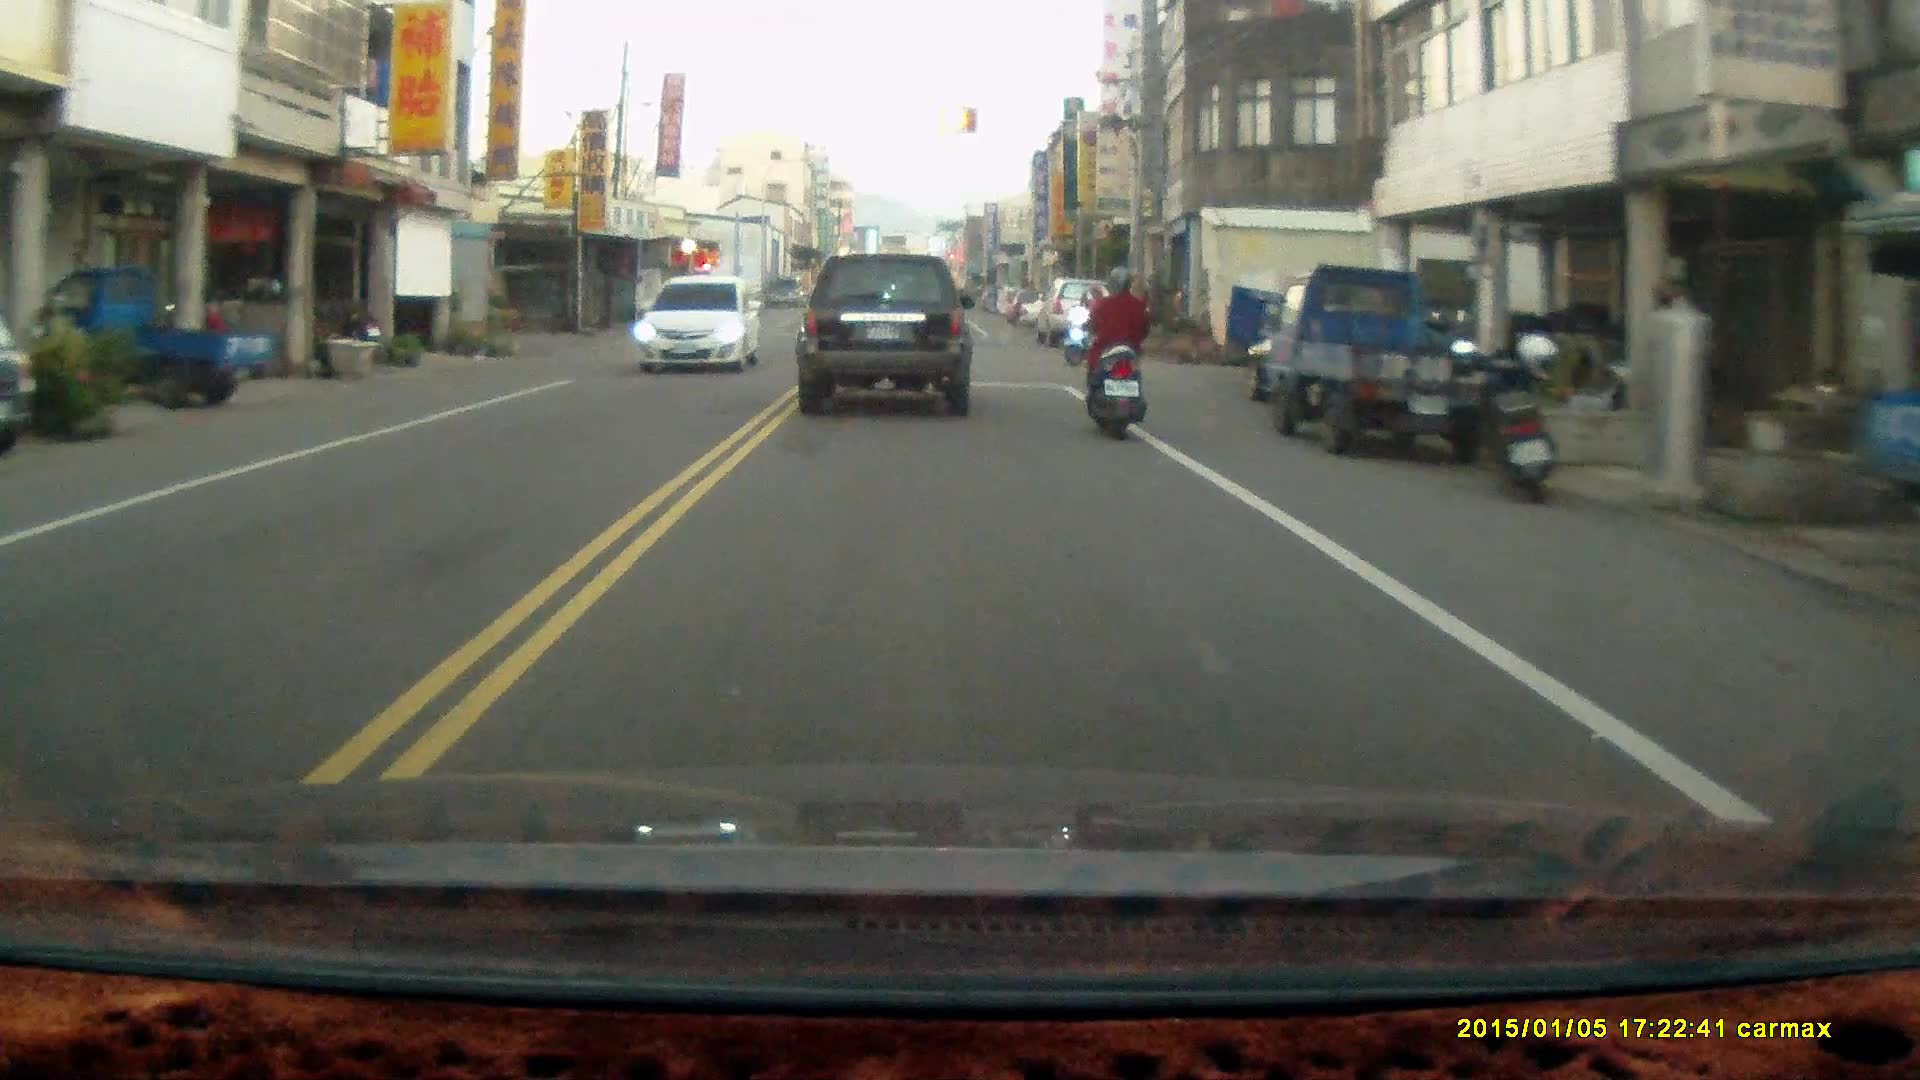rider: (1083, 268, 1148, 447), (1063, 285, 1117, 365)
vehicle: (1266, 262, 1518, 462), (25, 268, 269, 412), (794, 252, 975, 421), (630, 276, 763, 376), (1, 303, 42, 458), (1037, 281, 1118, 350)
